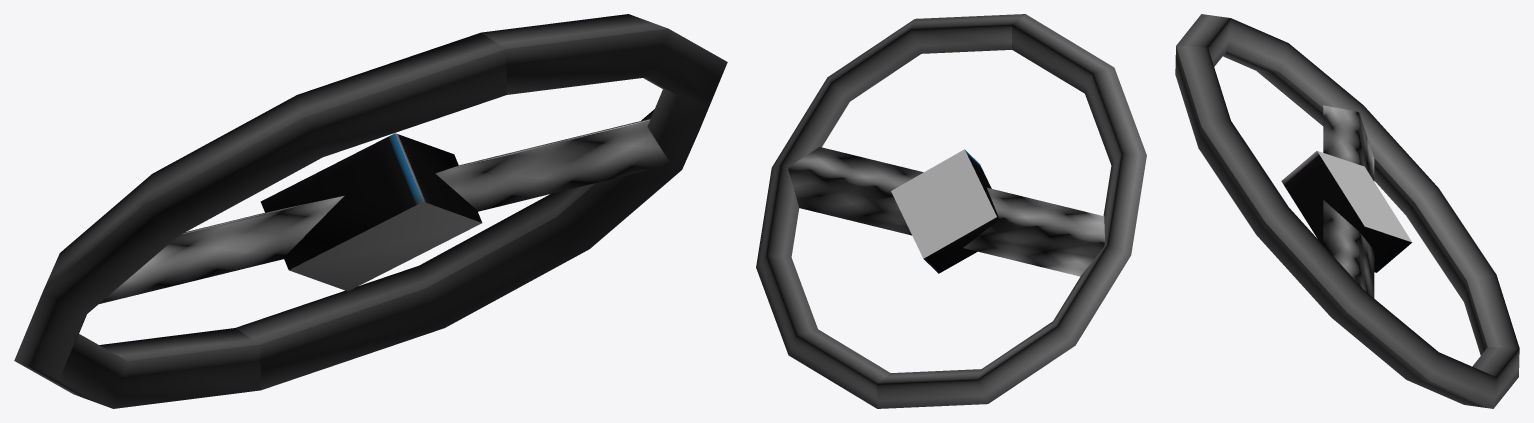
The model's file is 21711_bloco_volante.obj.
3 views of the same model, side by side, from view 1: azimuth 30°, elevation 25°; view 2: azimuth 150°, elevation 25°; view 3: azimuth 270°, elevation 25° (orthographic). The views are drawn at different scales.
Visible parts, largest first — view 1: 21711_bloco_volante; view 2: 21711_bloco_volante; view 3: 21711_bloco_volante.
Boxes of the visible parts, box(x1,y1,x2,y2) form: 21711_bloco_volante: box(14, 14, 727, 408); 21711_bloco_volante: box(756, 14, 1146, 408); 21711_bloco_volante: box(1175, 14, 1519, 408).
Bounding box in the file's own units: 0.4022 × 0.3063 × 0.2884.
